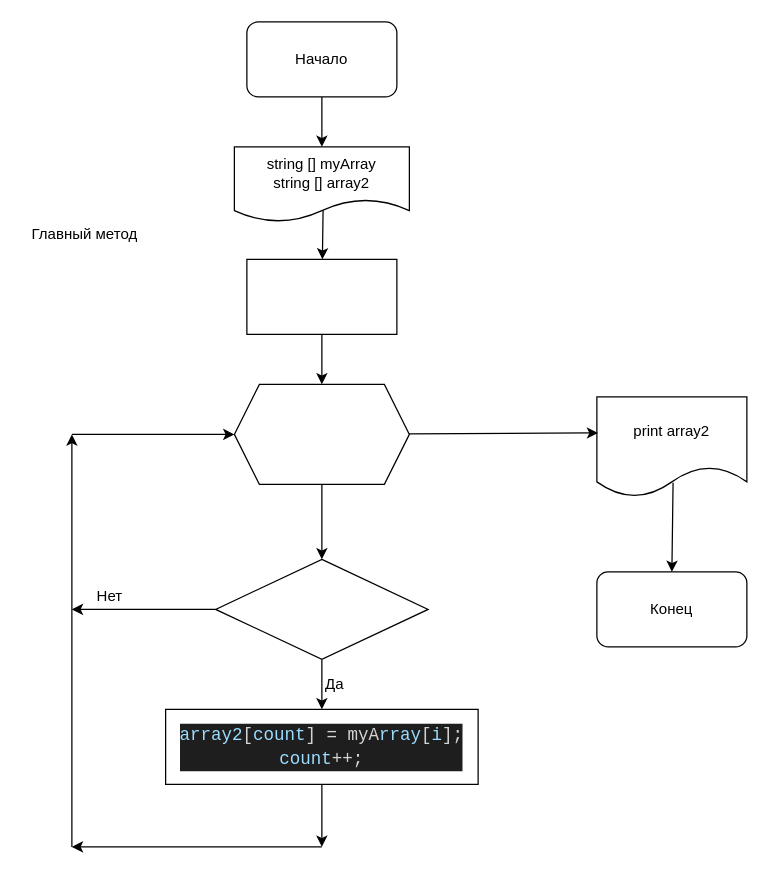
Image size: 769x879. Some labels were removed from this diagram. Here are the shapes that lost their labels. From the top down, the centre of each, then its label:
[321,296]: int count = 0
[321,433]: for (int i = 0; i < myArray.Length; i++)
[321,608]: if myArray[i].Lenght <=3)
